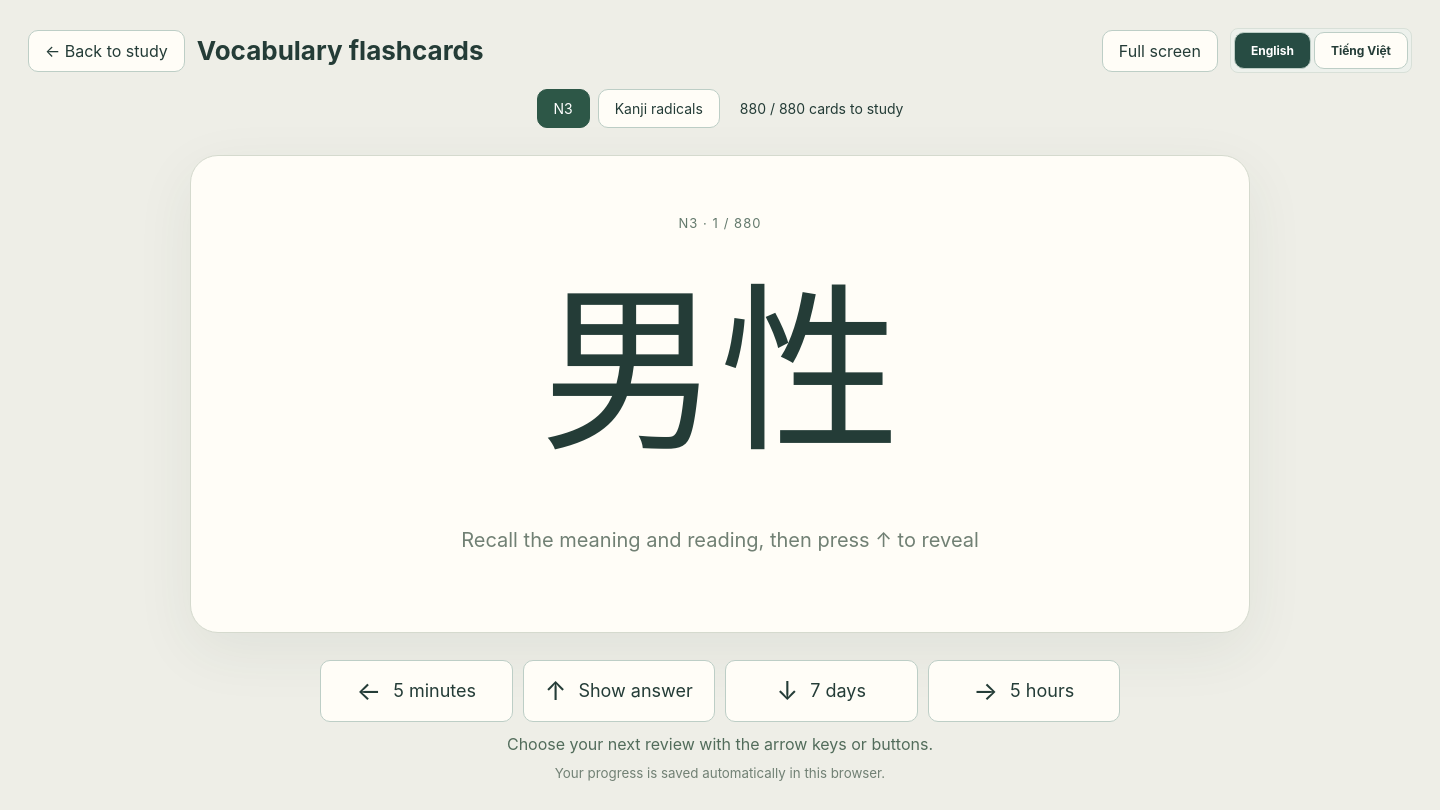
Test: has all 880 N3 words and 214 radicals; reveals meaning, kana and Han Viet only on Up
expect the text "男性" is shown: met, box top-left (540, 257), bottom-right (900, 482)
expect the text "だんせい" is not shown: met
Press ArrowUp
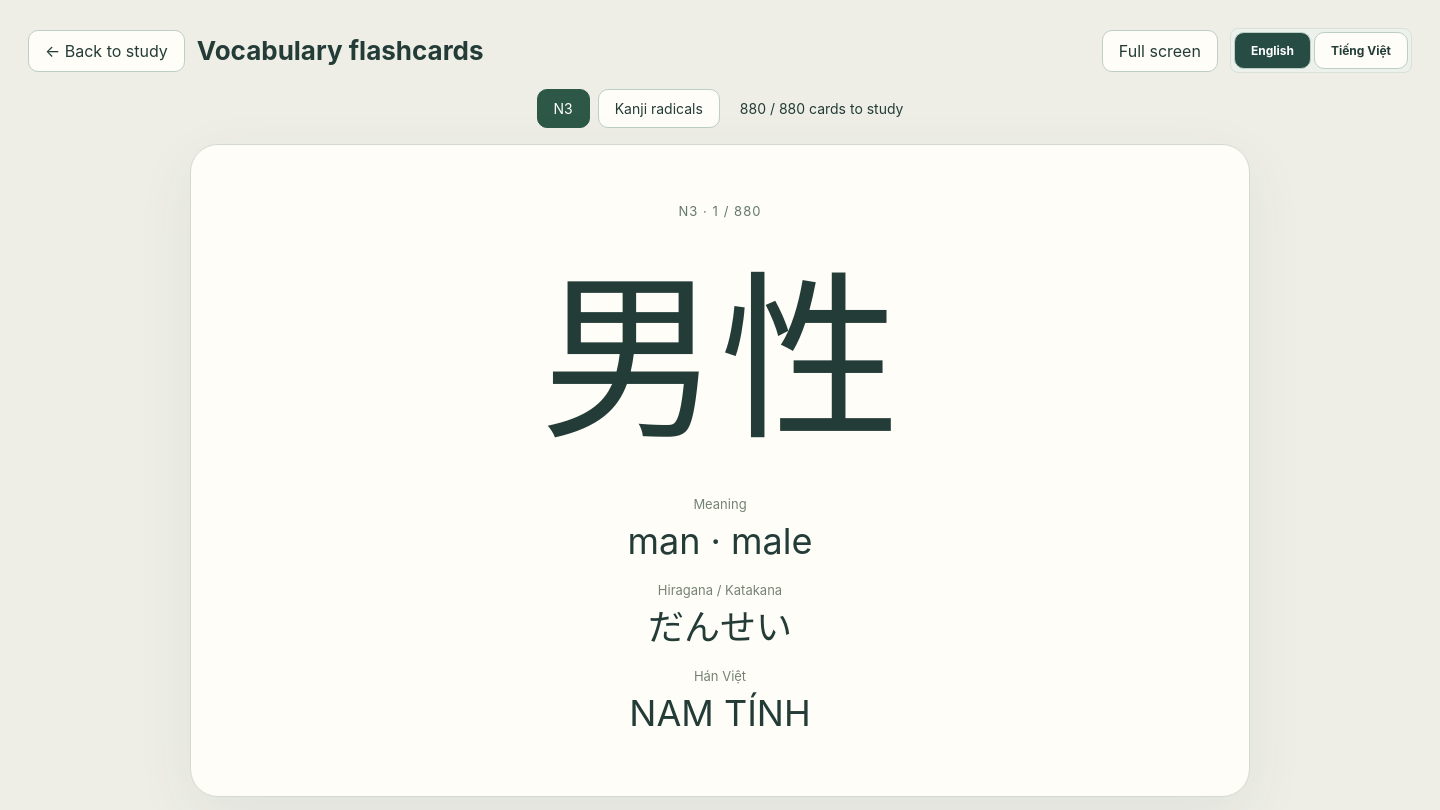
expect the text "だんせい" is shown: met, box top-left (648, 605), bottom-right (792, 649)
expect the text "NAM TÍNH" is shown: met, box top-left (629, 691), bottom-right (811, 735)
expect the text "man · male" is shown: met, box top-left (627, 519), bottom-right (812, 563)
Press ArrowUp
expect the text "だんせい" is shown: met, box top-left (648, 605), bottom-right (792, 649)
Click the button "Tiếng Việt".
click(1361, 50)  # box top-left (1314, 32), bottom-right (1408, 69)
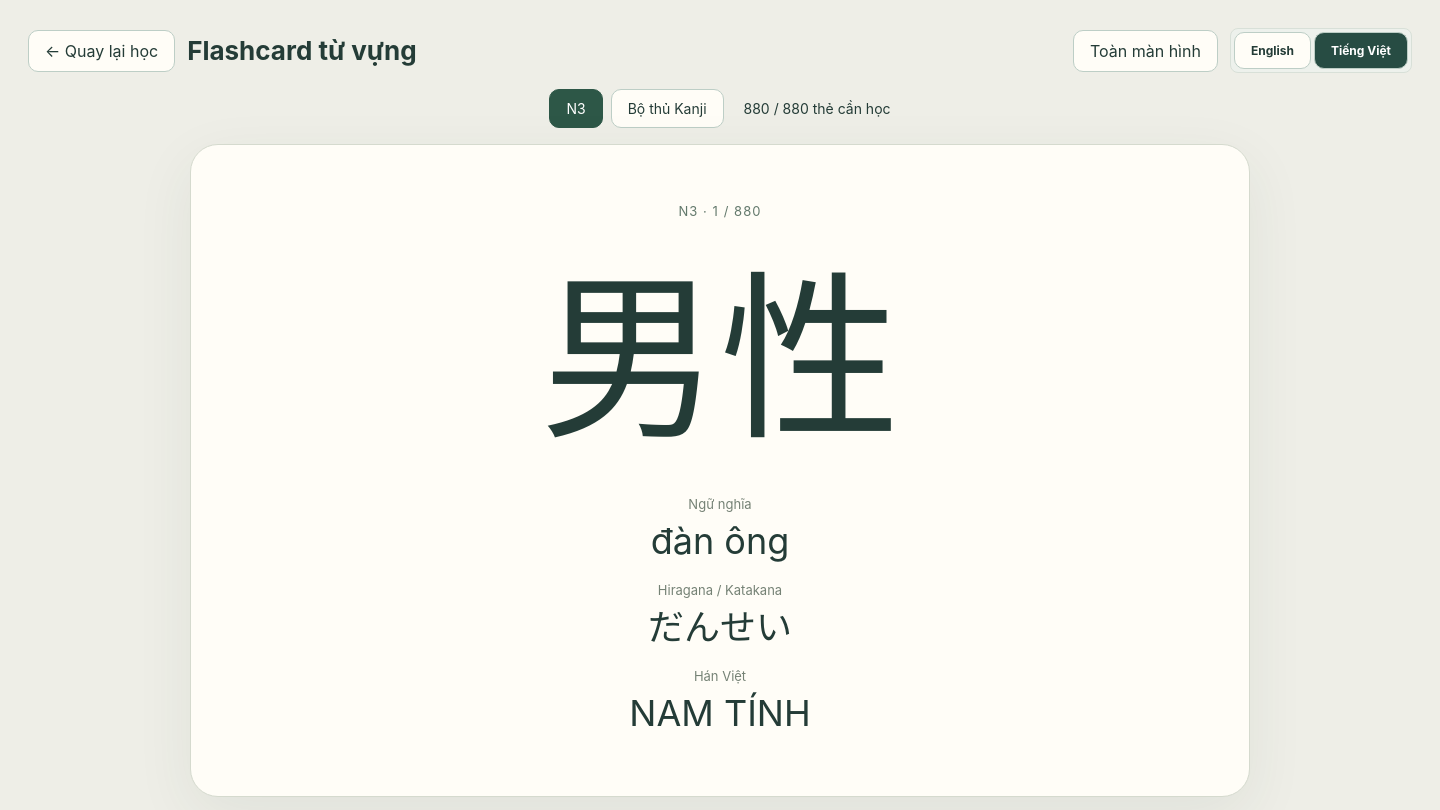
expect the text "đàn ông" is shown: met, box top-left (651, 519), bottom-right (789, 563)
Click the button "Bộ thủ Kanji".
click(667, 108)  # box top-left (611, 89), bottom-right (724, 128)
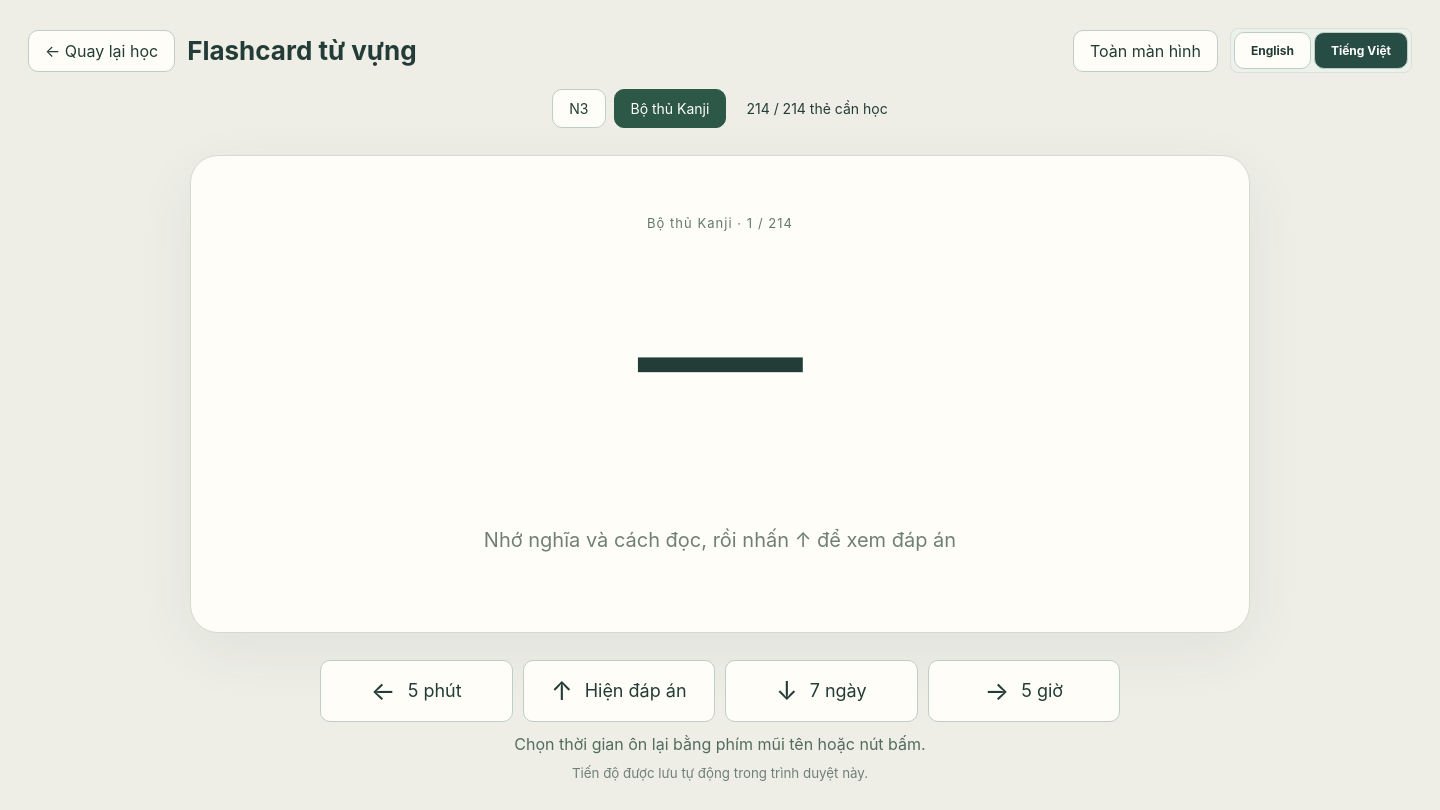
expect the text "いち" is not shown: met
expect the text "一" is shown: met, box top-left (630, 257), bottom-right (810, 482)
Click the button "↑ Hiện đáp án".
click(619, 691)  # box top-left (522, 660), bottom-right (715, 722)
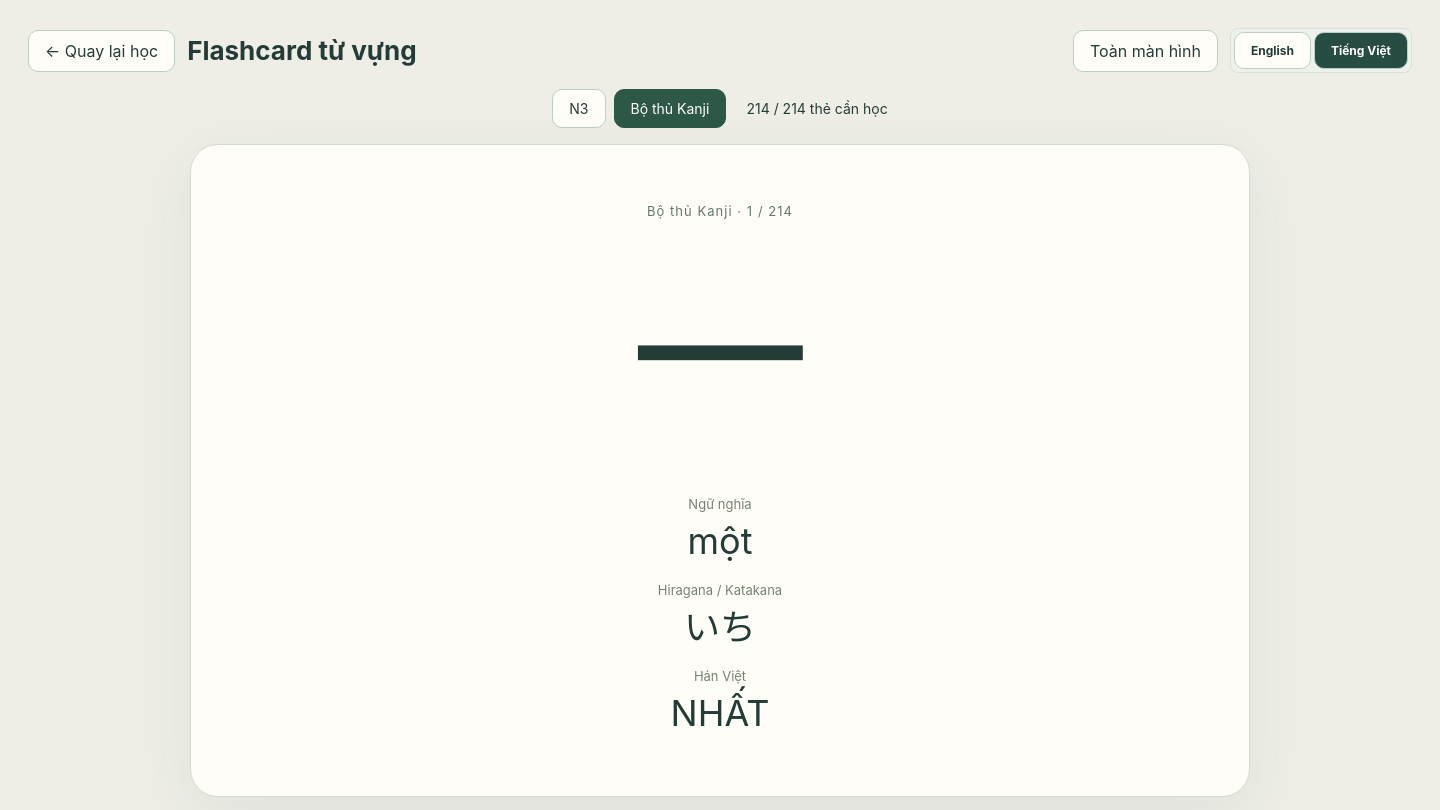
expect the text "いち" is shown: met, box top-left (684, 605), bottom-right (756, 649)
expect the text "NHẤT" is shown: met, box top-left (670, 691), bottom-right (769, 735)
expect the text "một" is shown: met, box top-left (688, 519), bottom-right (752, 563)
